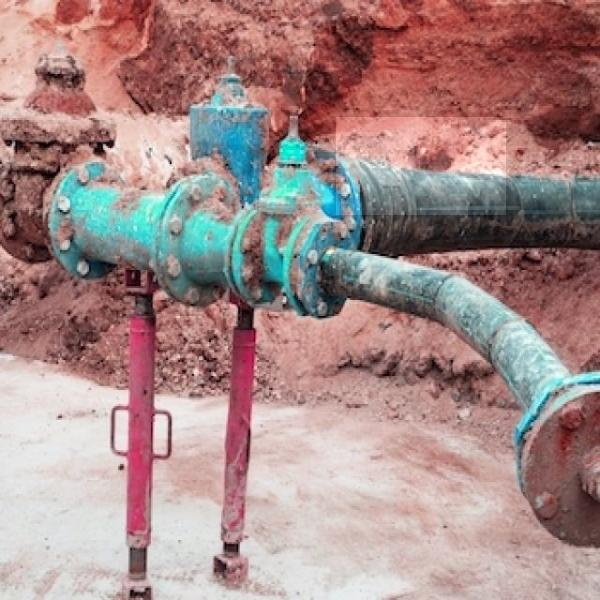no leak: (336, 117, 506, 215)
